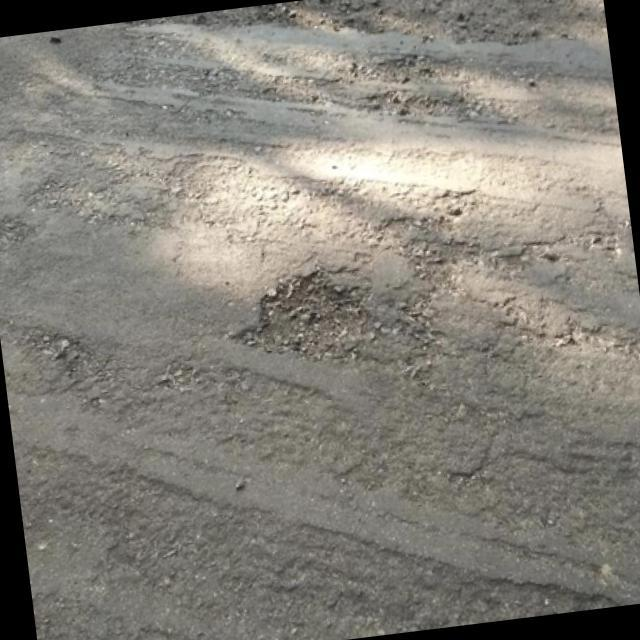Pothole: (231, 0, 608, 45), (250, 268, 433, 359)
